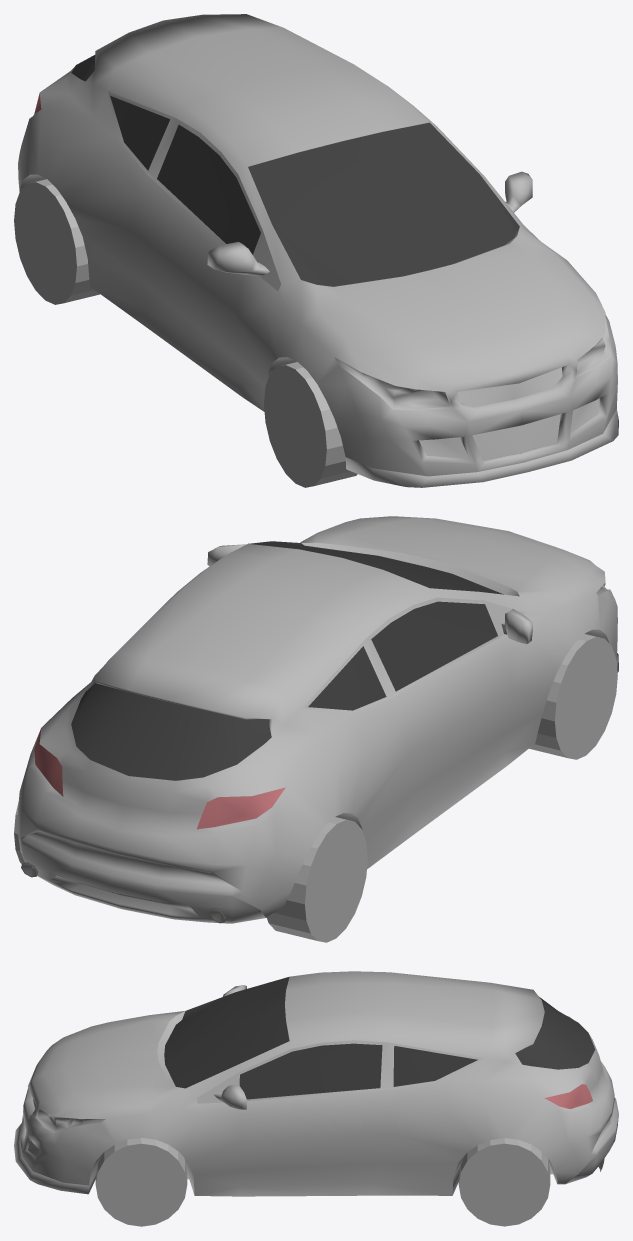
File: Car_48_LOD1.FBX
The picture shows the model from 3 angles, top to bottom: view 1: azimuth 30°, elevation 25°; view 2: azimuth 150°, elevation 25°; view 3: azimuth 270°, elevation 25°; orthographic projection. The views are drawn at different scales.
Parts seen in each view (by area): view 1: Body_48_LOD1, Glass_48_LOD1, Matte_48_LOD1, Wheel_L_LOD1, Wheel_Back_R_LOD1; view 2: Body_48_LOD1, Glass_48_LOD1, Matte_48_LOD1, Wheel_Back_R_LOD1, Wheel_L_LOD1, Taillights_48_LOD1; view 3: Body_48_LOD1, Glass_48_LOD1, Wheel_R_LOD1, Matte_48_LOD1, Wheel_Back_L_LOD1, Taillights_48_LOD1.
Boxes of the visible parts, x1,y1,x2,y2 form: Body_48_LOD1: [18, 14, 617, 476]; Glass_48_LOD1: [71, 55, 519, 286]; Matte_48_LOD1: [19, 91, 618, 487]; Wheel_L_LOD1: [264, 361, 357, 487]; Wheel_Back_R_LOD1: [14, 179, 99, 304]; Body_48_LOD1: [18, 516, 617, 917]; Glass_48_LOD1: [71, 541, 503, 780]; Matte_48_LOD1: [20, 542, 618, 923]; Wheel_Back_R_LOD1: [266, 817, 367, 942]; Wheel_L_LOD1: [529, 633, 617, 759]; Taillights_48_LOD1: [34, 728, 285, 829]; Body_48_LOD1: [20, 971, 618, 1196]; Glass_48_LOD1: [164, 976, 595, 1099]; Wheel_R_LOD1: [95, 1138, 187, 1226]; Matte_48_LOD1: [14, 985, 618, 1194]; Wheel_Back_L_LOD1: [458, 1138, 550, 1226]; Taillights_48_LOD1: [544, 1084, 592, 1108].
Bounding box in the file's own units: 1.93 × 1.4 × 4.32.
